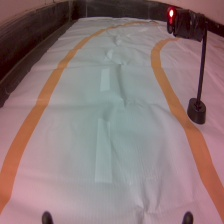red: (165, 4, 211, 126)
